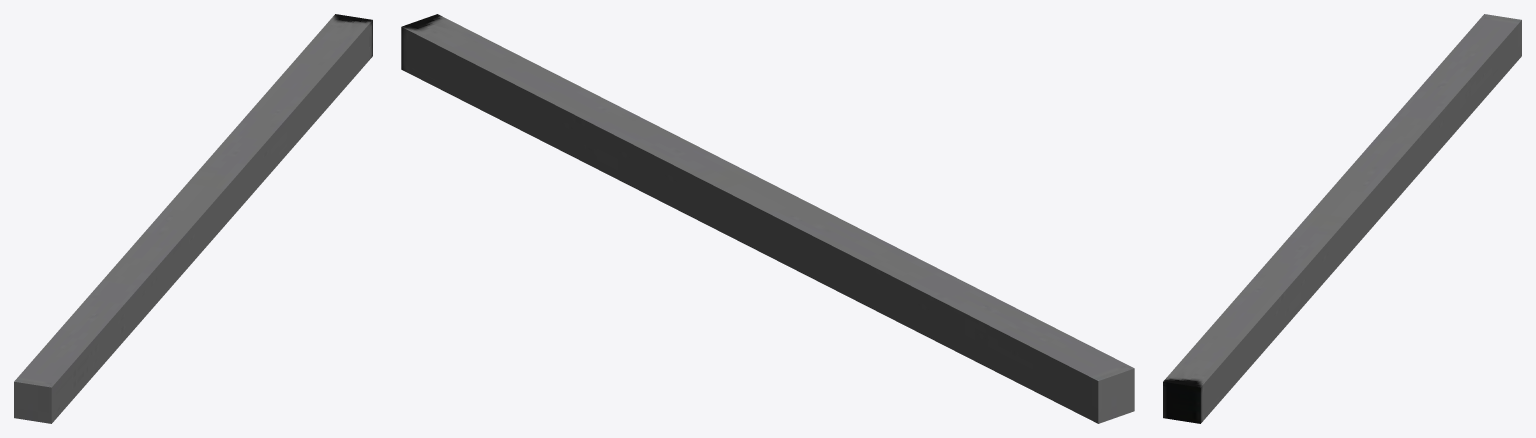
File: rear_brace__brace_rail_1.glb
The picture shows the model from 3 angles, left to right: view 1: azimuth 90°, elevation 25°; view 2: azimuth 150°, elevation 25°; view 3: azimuth 270°, elevation 25°; orthographic projection. The views are drawn at different scales.
Parts seen in each view (by area): view 1: world; view 2: world; view 3: world.
Part boxes in pixels (box(x1,y1,x2,y2)): world: box(14, 14, 372, 423); world: box(401, 14, 1134, 423); world: box(1163, 14, 1521, 423).
Size of the model in its own units: 0.6604 by 0.03 by 0.2681.
1 material, 1 textured.
